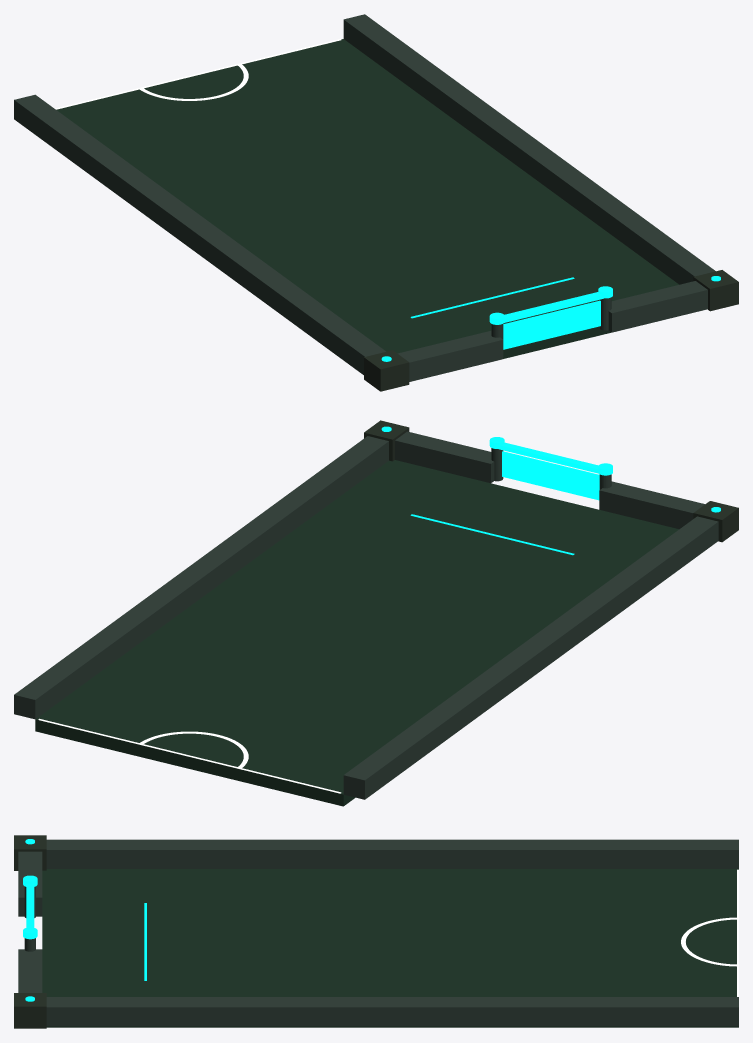
File: mesa_gridiron_football_half_p1.glb
3 views of the same model, one above another, from view 1: azimuth 30°, elevation 25°; view 2: azimuth 150°, elevation 25°; view 3: azimuth 270°, elevation 25° (orthographic). The views are drawn at different scales.
Visible parts, largest first — view 1: GridironHalfP1_Surface, GridironHalfP1_RailL, GridironHalfP1_RailR, Cube.004, Cube.002, Cube.009, Cube.006, Cube.007, Cube.008, GridironHalfP1_TopEdgeLaser; view 2: GridironHalfP1_Surface, GridironHalfP1_RailL, GridironHalfP1_RailR, Cube.004, Cube.002, Cube.009, Cube.006, Cube.008, Cube.007, GridironHalfP1_TopEdgeLaser; view 3: GridironHalfP1_Surface, GridironHalfP1_RailL, GridironHalfP1_RailR, Cube.002, Cube.007, Cube.004, Cube.006, GridironHalfP1_CenterArcOuter, Cube.008.
Boxes of the visible parts, bbox=[...] form: GridironHalfP1_Surface: bbox=[56, 39, 678, 358]; GridironHalfP1_RailL: bbox=[14, 94, 385, 374]; GridironHalfP1_RailR: bbox=[343, 14, 715, 284]; Cube.004: bbox=[608, 281, 707, 332]; Cube.002: bbox=[397, 331, 503, 381]; Cube.009: bbox=[503, 300, 600, 349]; Cube.006: bbox=[364, 350, 409, 391]; Cube.007: bbox=[693, 270, 738, 311]; Cube.008: bbox=[504, 292, 603, 322]; GridironHalfP1_TopEdgeLaser: bbox=[55, 39, 341, 109]; GridironHalfP1_Surface: bbox=[35, 460, 678, 806]; GridironHalfP1_RailL: bbox=[343, 516, 718, 799]; GridironHalfP1_RailR: bbox=[14, 436, 388, 719]; Cube.004: bbox=[395, 431, 494, 483]; Cube.002: bbox=[599, 481, 704, 529]; Cube.009: bbox=[502, 451, 599, 500]; Cube.006: bbox=[693, 501, 738, 542]; Cube.008: bbox=[499, 442, 598, 473]; Cube.007: bbox=[364, 420, 409, 461]; GridironHalfP1_TopEdgeLaser: bbox=[38, 718, 341, 793]; GridironHalfP1_Surface: bbox=[42, 869, 738, 1027]; GridironHalfP1_RailL: bbox=[46, 839, 738, 868]; GridironHalfP1_RailR: bbox=[46, 997, 738, 1026]; Cube.002: bbox=[18, 851, 42, 916]; Cube.007: bbox=[14, 993, 46, 1028]; Cube.004: bbox=[18, 949, 42, 992]; Cube.006: bbox=[14, 835, 46, 870]; GridironHalfP1_CenterArcOuter: bbox=[681, 917, 736, 966]; Cube.008: bbox=[26, 884, 34, 927].
Bounding box in the file's own units: 1.26 × 0.17 × 2.25.
